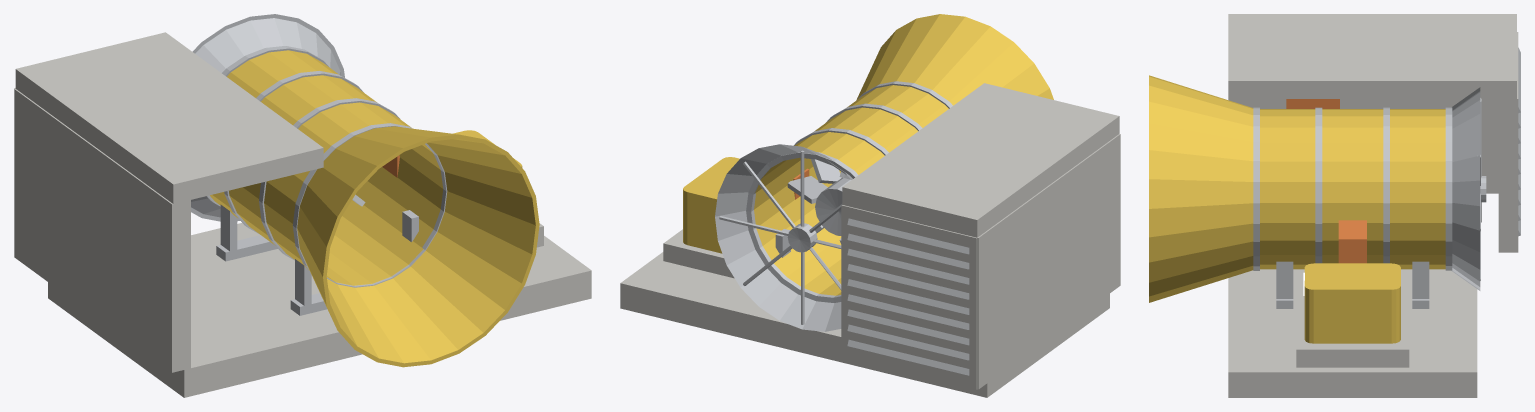
Rendered from underground-mine-and-shaft-works-main-fan-house-46a91910.glb.
The picture shows the model from 3 angles, left to right: view 1: azimuth 30°, elevation 25°; view 2: azimuth 150°, elevation 25°; view 3: azimuth 270°, elevation 25°; orthographic projection. The views are drawn at different scales.
Parts seen in each view (by area): view 1: main-fan-house; view 2: main-fan-house; view 3: main-fan-house.
Boxes of the visible parts, box(x1,y1,x2,y2) form: main-fan-house: box(14, 14, 591, 397); main-fan-house: box(620, 14, 1120, 397); main-fan-house: box(1149, 14, 1520, 397).
Bounding box in the file's own units: 7.83 × 4.32 × 6.57.
